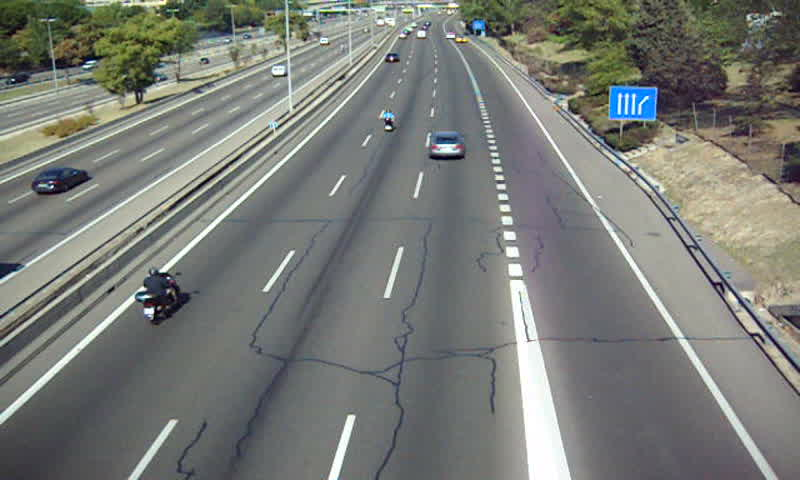car: (428, 130, 465, 158), (384, 52, 399, 64)
motorcycle: (135, 268, 180, 326), (383, 109, 398, 134)
